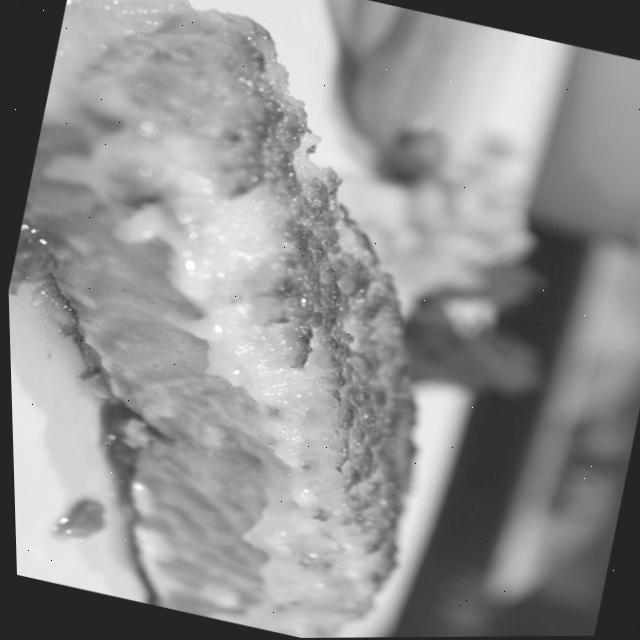熟制海鲜: (0, 0, 579, 640)
